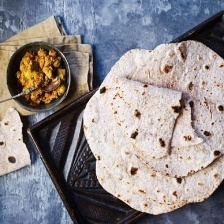roti: (0, 105, 35, 180)
